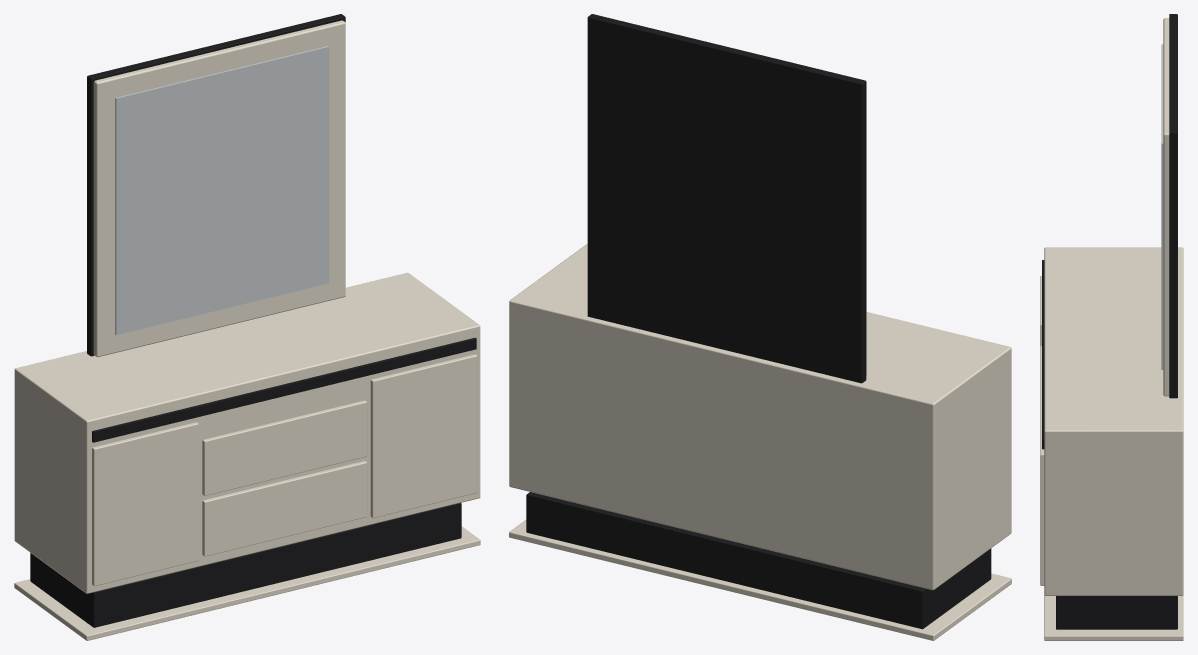
File: traverten-bed-set--dresser.glb
3 renders of one model, left to right at view 1: azimuth 30°, elevation 25°; view 2: azimuth 150°, elevation 25°; view 3: azimuth 270°, elevation 25°, orthographic. The views are drawn at different scales.
Parts seen in each view (by area): view 1: body, mglass, mframe, plinth, door1, door-1, dr1, dr0, foot, topband, moutline; view 2: body, moutline, plinth, foot; view 3: body, plinth, moutline, mframe, foot, mglass, door1, topband.
Boxes of the visible parts, <box> form: body: <box>14,272,480,593</box>; mglass: <box>115,46,329,335</box>; mframe: <box>93,20,345,357</box>; plinth: <box>30,503,461,627</box>; door1: <box>370,354,477,518</box>; door-1: <box>92,422,198,586</box>; dr1: <box>202,400,367,495</box>; dr0: <box>202,461,367,556</box>; foot: <box>14,526,480,640</box>; topband: <box>92,337,476,442</box>; moutline: <box>87,14,345,356</box>; body: <box>509,244,1011,589</box>; moutline: <box>587,14,866,383</box>; plinth: <box>526,492,991,629</box>; foot: <box>509,520,1011,640</box>; body: <box>1044,247,1183,595</box>; plinth: <box>1056,596,1177,629</box>; moutline: <box>1169,14,1177,398</box>; mframe: <box>1163,18,1169,396</box>; foot: <box>1044,595,1183,640</box>; mglass: <box>1161,44,1163,369</box>; door1: <box>1040,406,1044,585</box>; topband: <box>1042,260,1044,449</box>.
Bounding box in the file's own units: 1.5 × 1.81 × 0.494.
